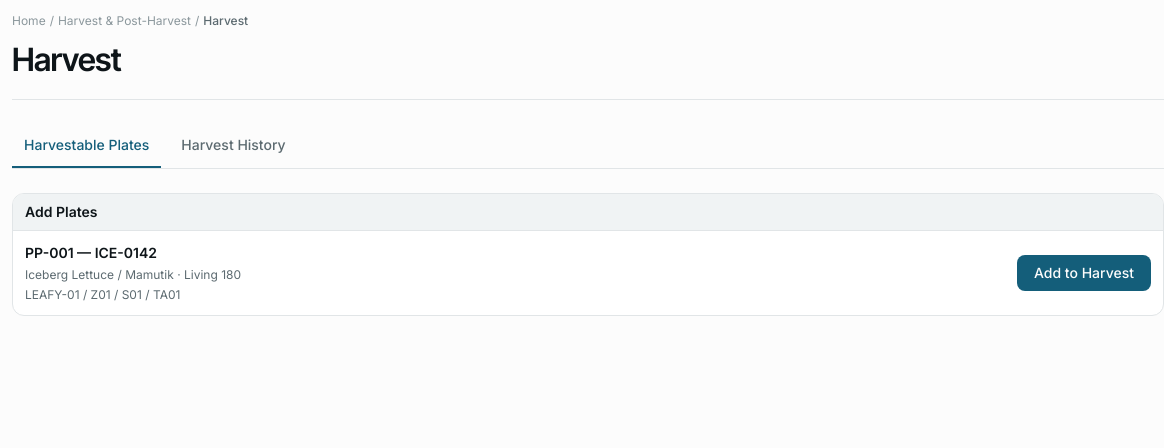
Scenario: LeafyHarvestPage › shows Harvest History with original vs. current corrected totals and correction history
The width and height of the screenshot is (1164, 448).
Expected: the text "PP-001 — ICE-0142" is shown, [25,244,157,261]
Click the tab "Harvest History" at (233, 146), box [169,124,298,168]
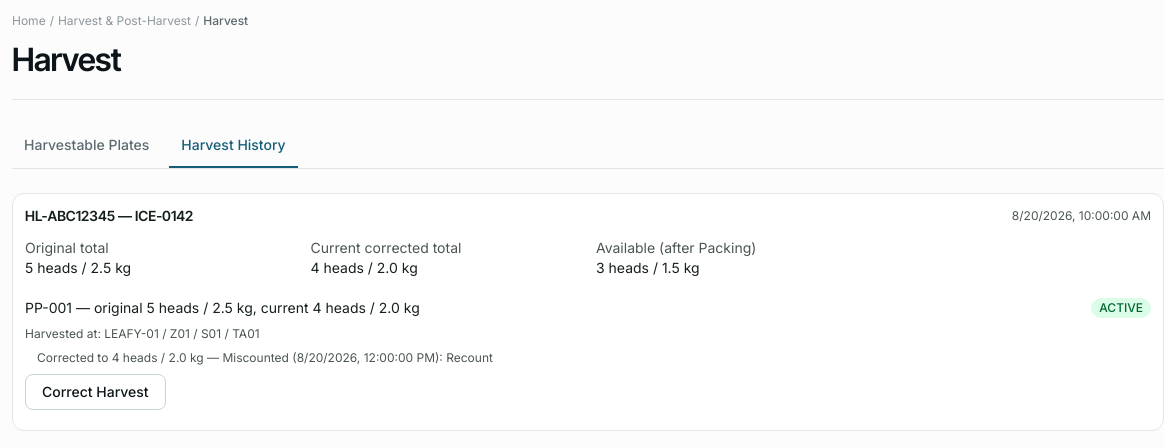
Expected: the text "HL-ABC12345 — ICE-0142" is shown, [25,206,193,226]
Expected: the text "5 heads / 2.5 kg" is shown, [25,259,131,276]
Expected: the text "4 heads / 2.0 kg" is shown, [310,259,418,276]
